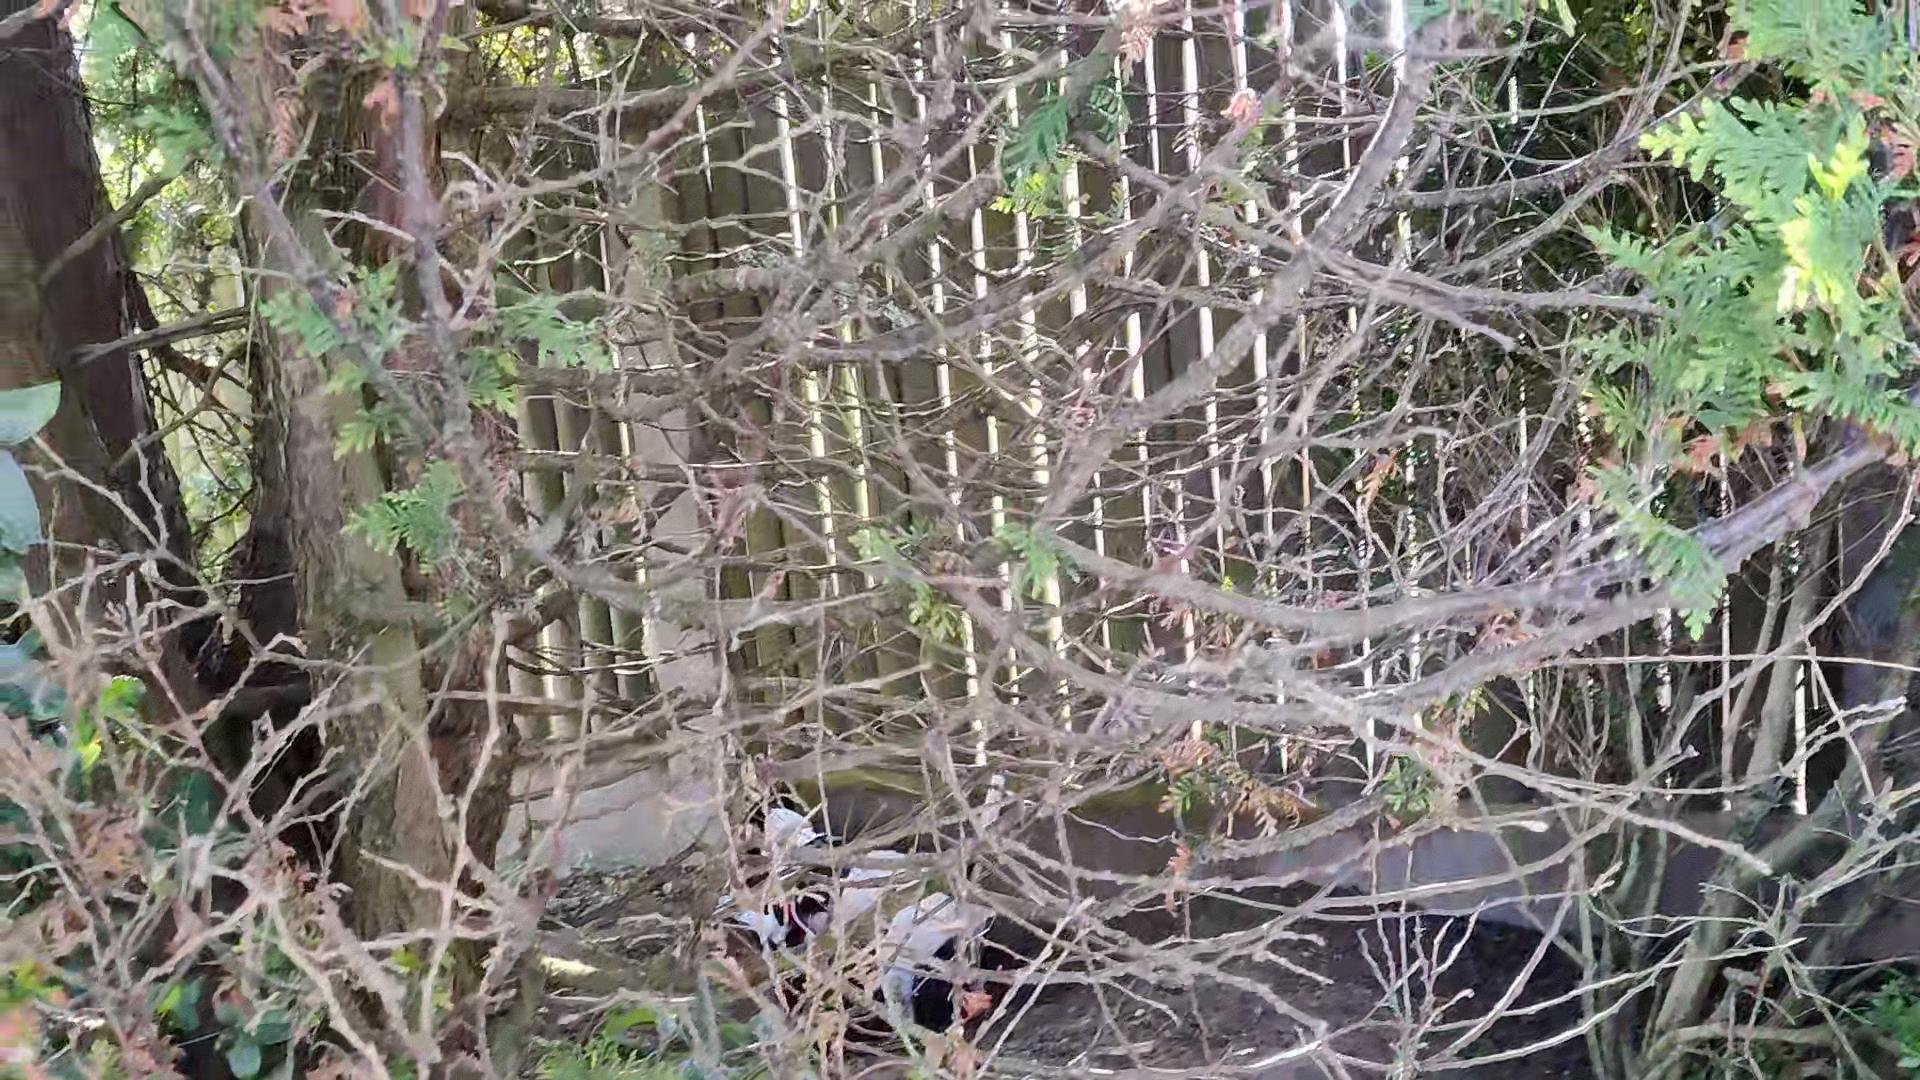Dog: (716, 757, 1007, 1027)
